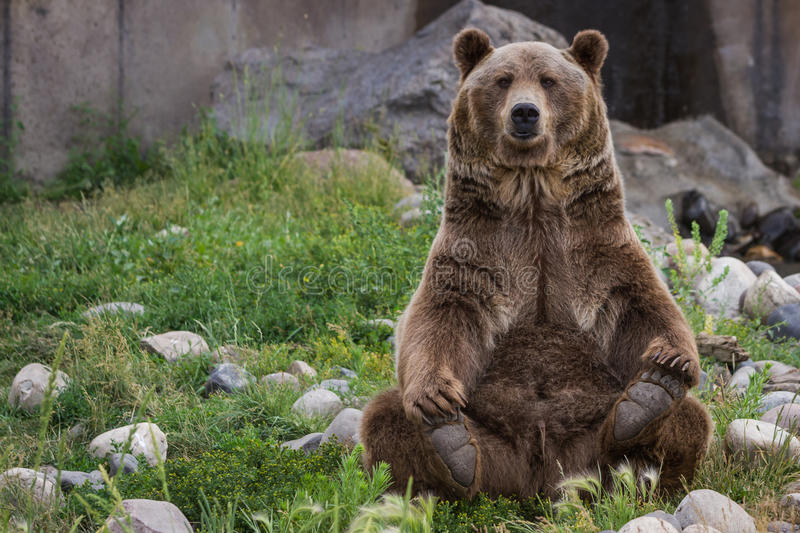bear: (366, 21, 715, 505)
